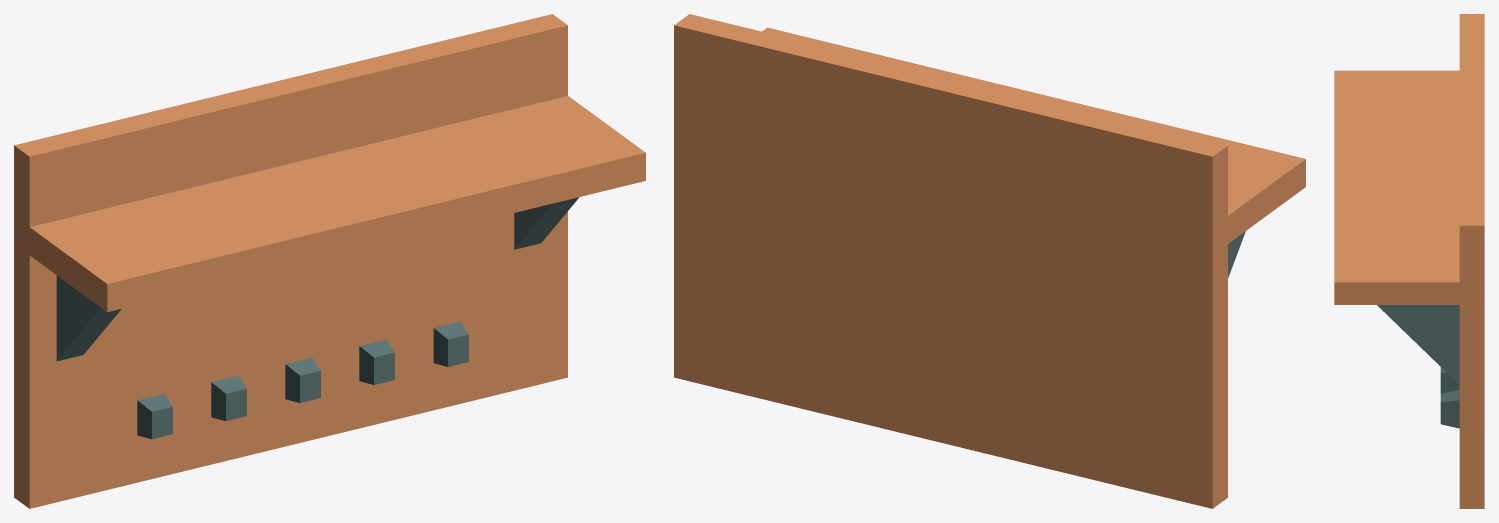
Rendered from CoatRackWall.obj.
The picture shows the model from 3 angles, left to right: view 1: azimuth 30°, elevation 25°; view 2: azimuth 150°, elevation 25°; view 3: azimuth 270°, elevation 25°; orthographic projection. The views are drawn at different scales.
Parts seen in each view (by area): view 1: Mesh_coatRack_1, Mesh_coatRack; view 2: Mesh_coatRack_1; view 3: Mesh_coatRack_1, Mesh_coatRack.
Part boxes in pixels (x1,y1,x2,y2): Mesh_coatRack_1: [14, 14, 645, 508]; Mesh_coatRack: [56, 197, 579, 439]; Mesh_coatRack_1: [674, 14, 1305, 508]; Mesh_coatRack_1: [1334, 14, 1484, 508]; Mesh_coatRack: [1377, 305, 1459, 428].
Bounding box in the file's own units: 1.05 × 0.658 × 0.3158.
